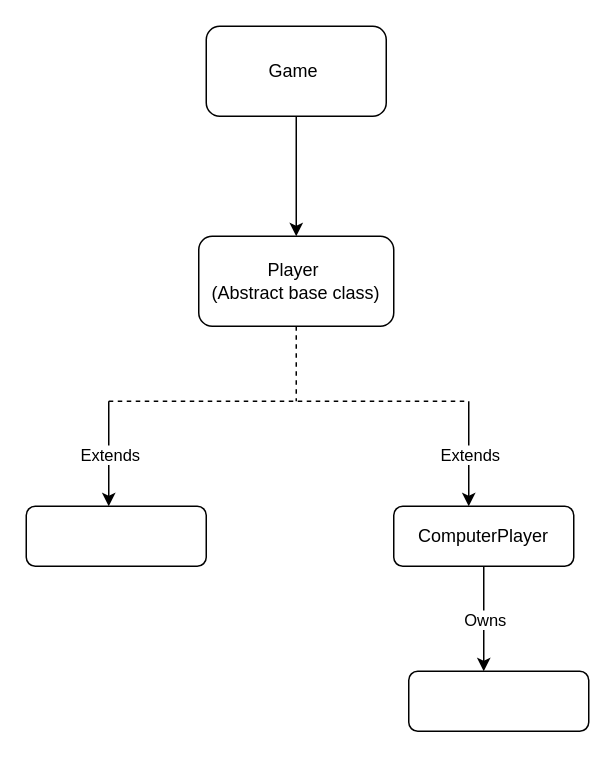
Some shapes in this 615 by 758 pixel diagram are drawn without their labels. Each missing label, with the centre of its shape:
"HumanPlayer" belongs at (115,535).
"TargetingAI" belongs at (498,700).
